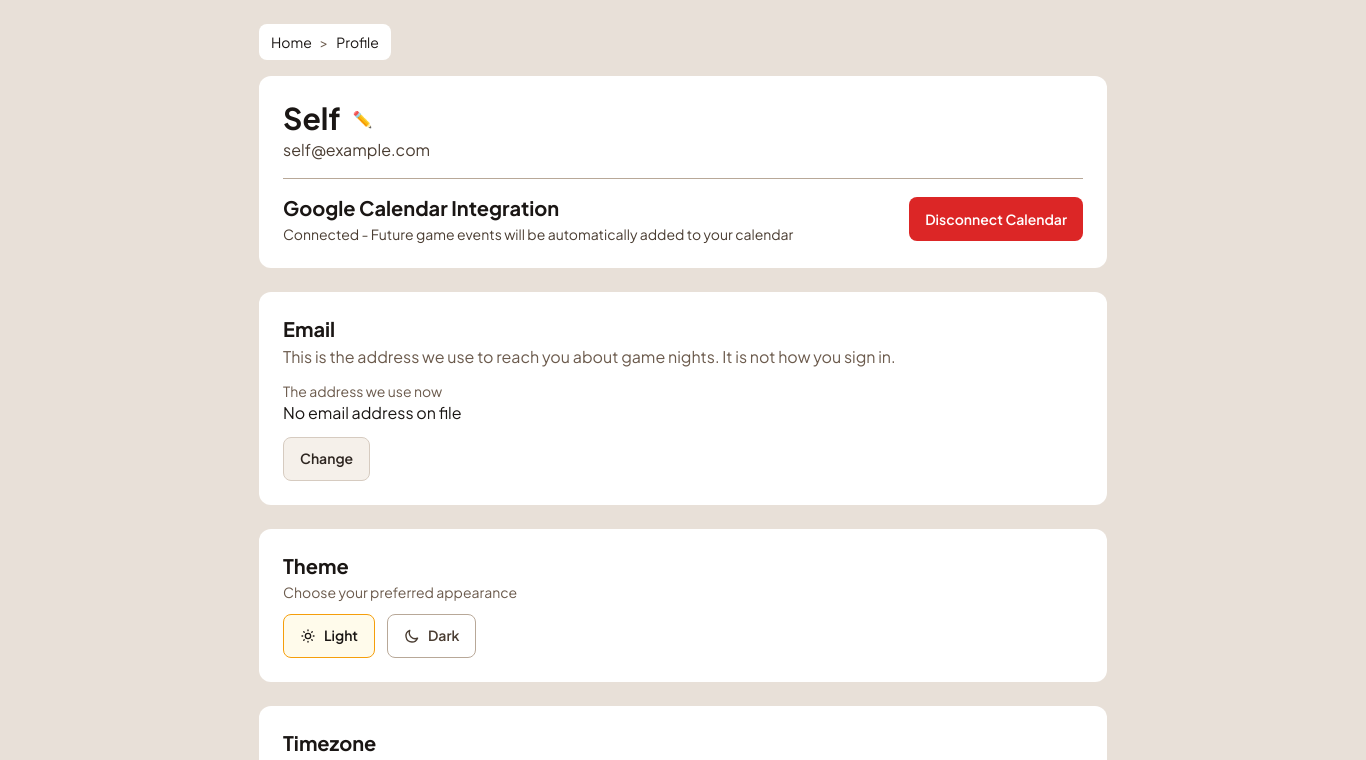
Scenario: userProfile destructive gates (Req 11) › the pending disconnect confirm reads the ratified pending label until it settles (CR-5)
The width and height of the screenshot is (1366, 760).
Click the button "Disconnect Calendar" at (996, 219), box top-left (909, 197), bottom-right (1083, 241)
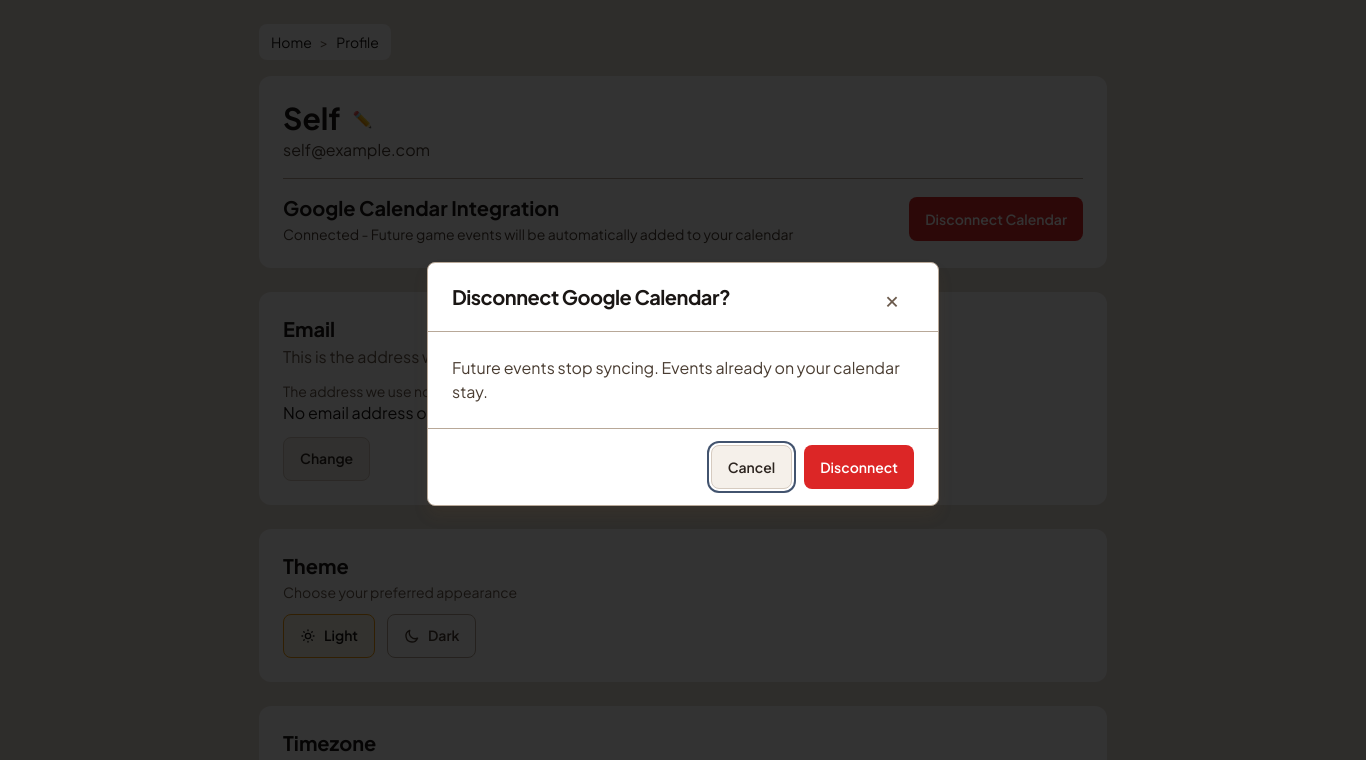
Click the button "Disconnect" at (859, 467), box top-left (804, 445), bottom-right (914, 489)
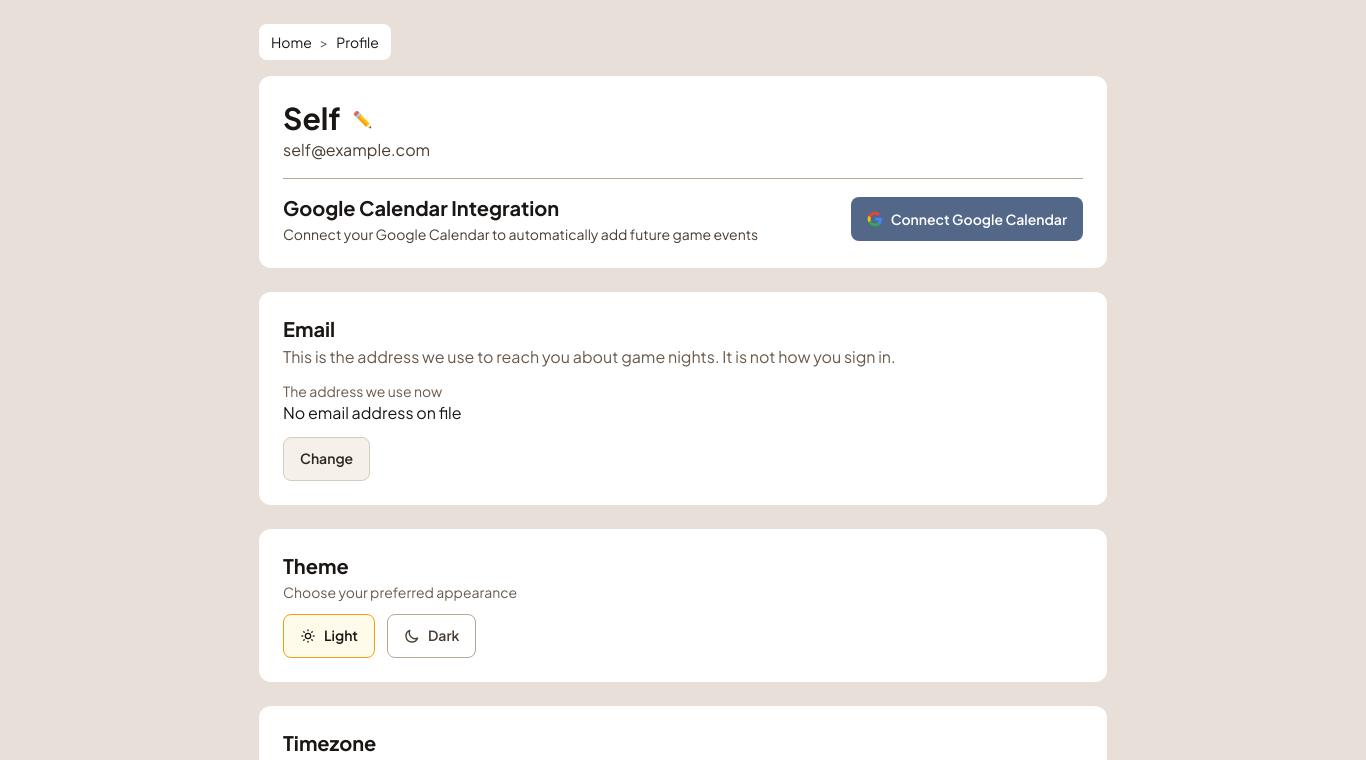
Expected: the button "Disconnect" is gone
Expected: the dialog is gone
